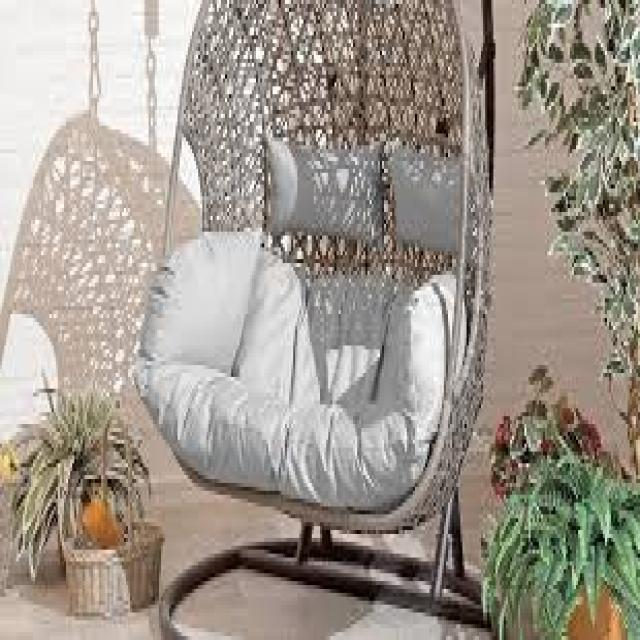chair: (96, 0, 524, 558)
